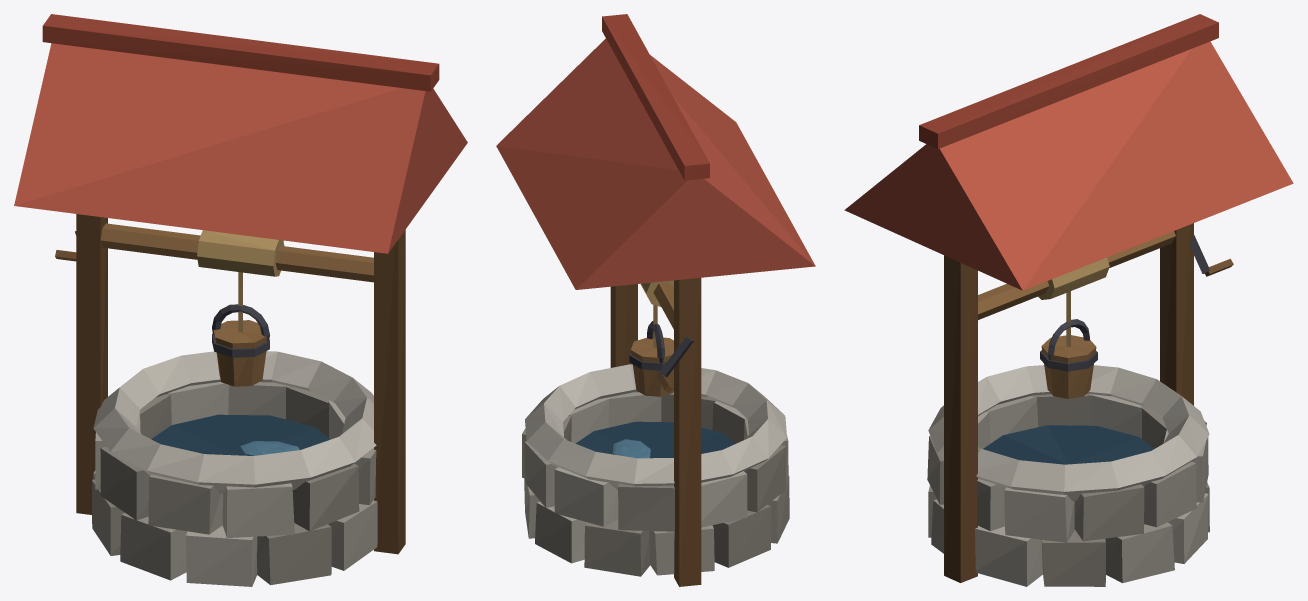
Rendered from puits.glb.
3 renders of one model, left to right at view 1: azimuth 30°, elevation 25°; view 2: azimuth 150°, elevation 25°; view 3: azimuth 270°, elevation 25°, orthographic. The views are drawn at different scales.
Size of the model in its own units: 1.93 by 2.2 by 1.95.
